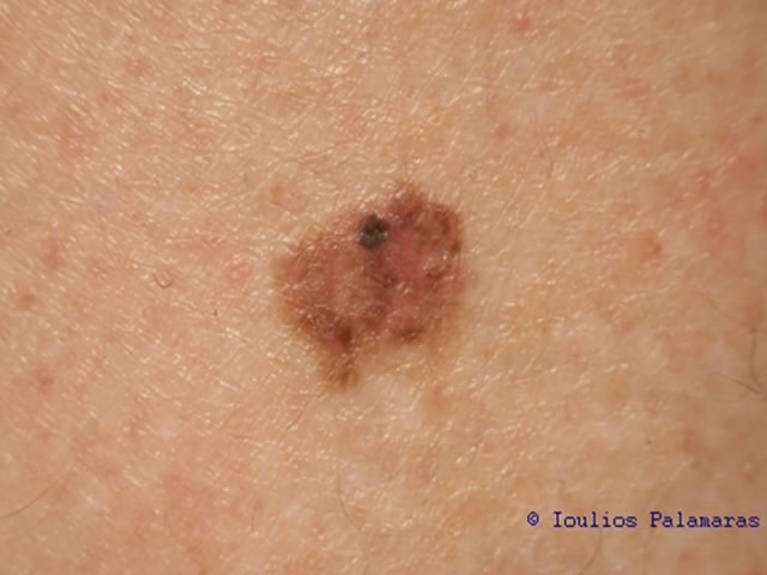melanoma: (192, 157, 542, 431)
